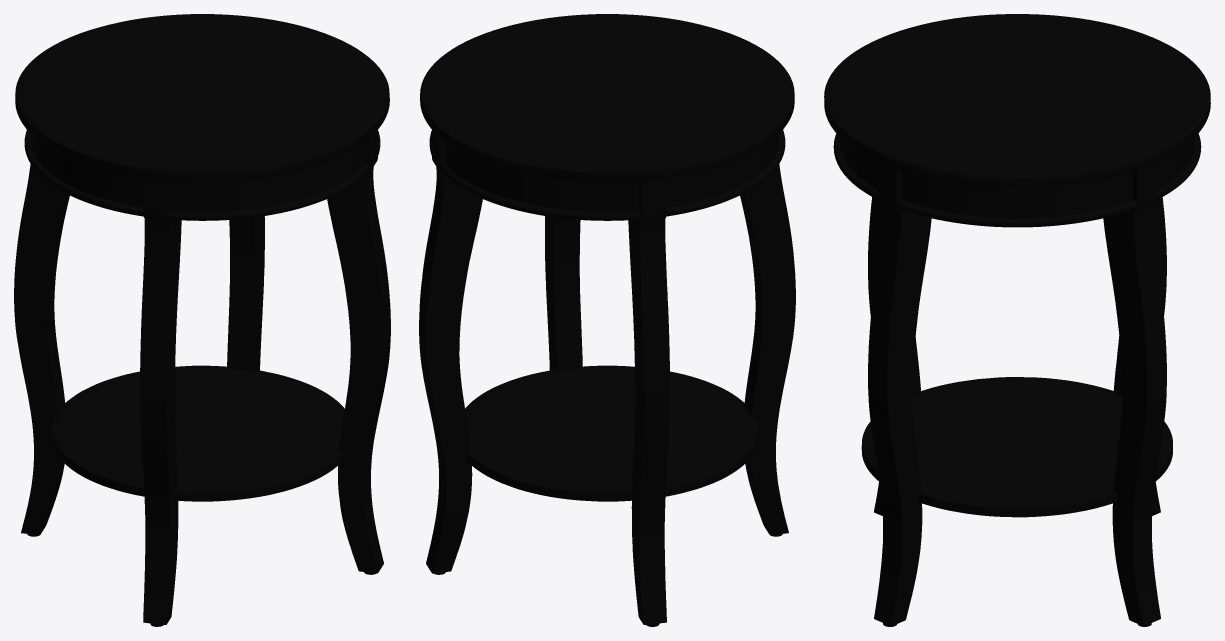
Rendered from ATGR2663_v6_LOD2.gltf.
The picture shows the model from 3 angles, left to right: view 1: azimuth 30°, elevation 25°; view 2: azimuth 150°, elevation 25°; view 3: azimuth 270°, elevation 25°; orthographic projection. The views are drawn at different scales.
Visible parts, largest first — view 1: not_clear_obj_0_v6; view 2: not_clear_obj_0_v6; view 3: not_clear_obj_0_v6.
Boxes of the visible parts, x1,y1,x2,y2 form: not_clear_obj_0_v6: (14, 14, 390, 626); not_clear_obj_0_v6: (419, 14, 795, 626); not_clear_obj_0_v6: (824, 14, 1210, 626).
Size of what is drawn, in the model's own units: 44.94 by 60.96 by 44.92.
1 material, 1 textured.
